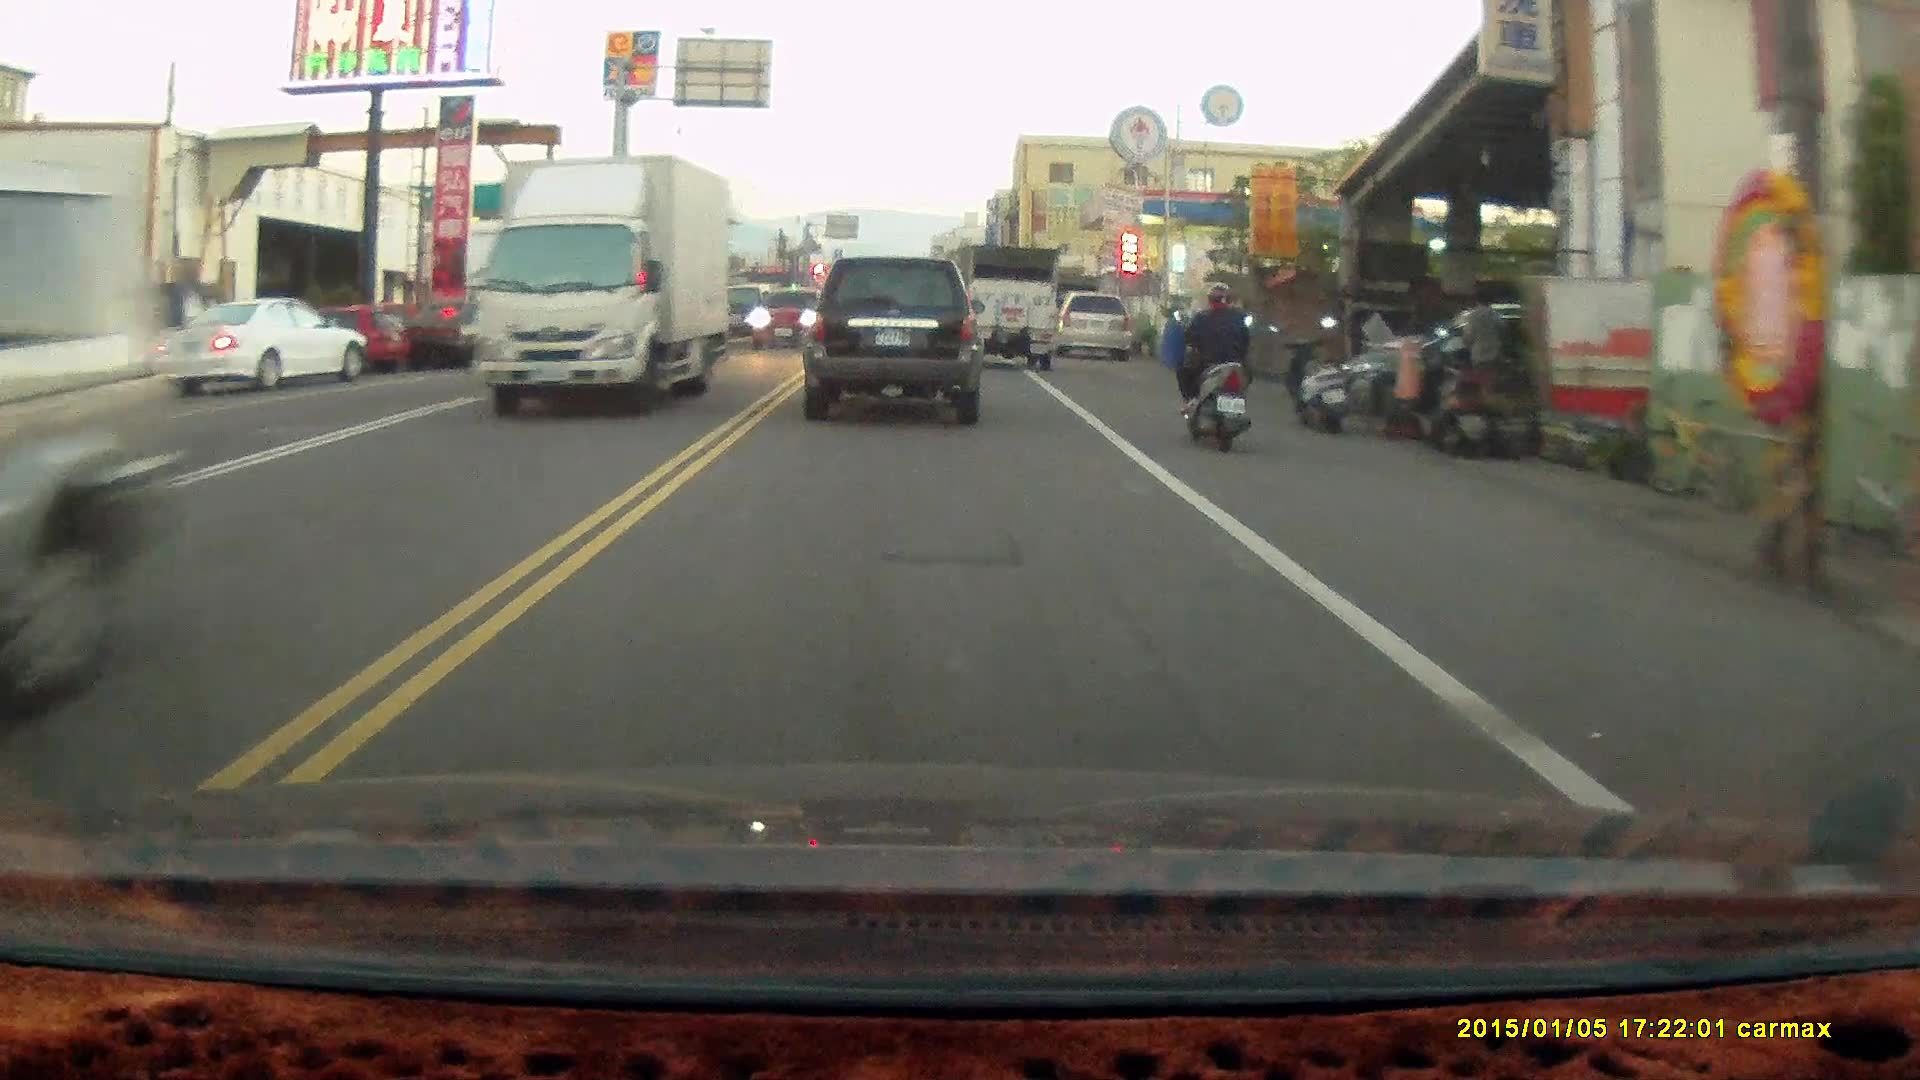pedestrian: (1459, 286, 1508, 419)
rider: (1169, 277, 1254, 452)
vehicle: (1, 160, 188, 729), (478, 148, 739, 418), (798, 249, 985, 421), (154, 299, 378, 400), (966, 237, 1059, 365), (1055, 285, 1133, 358)
